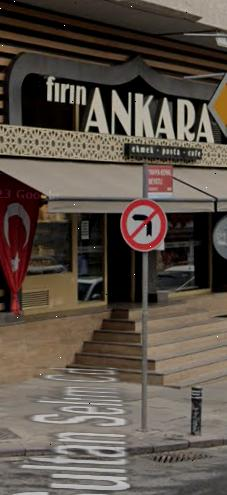leftturnsareforbidden: (121, 199, 167, 249)
